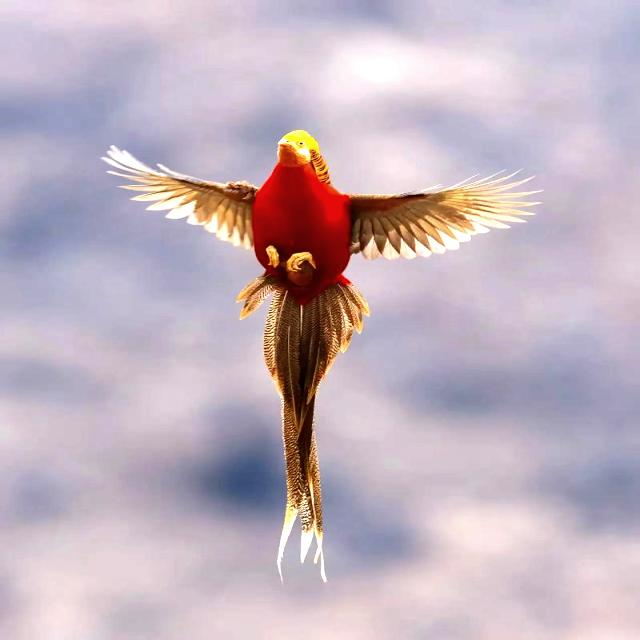Chrysolophus pictus feather: (236, 280, 370, 582)
